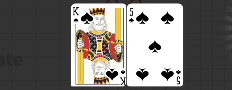5C: (174, 68, 181, 85)
